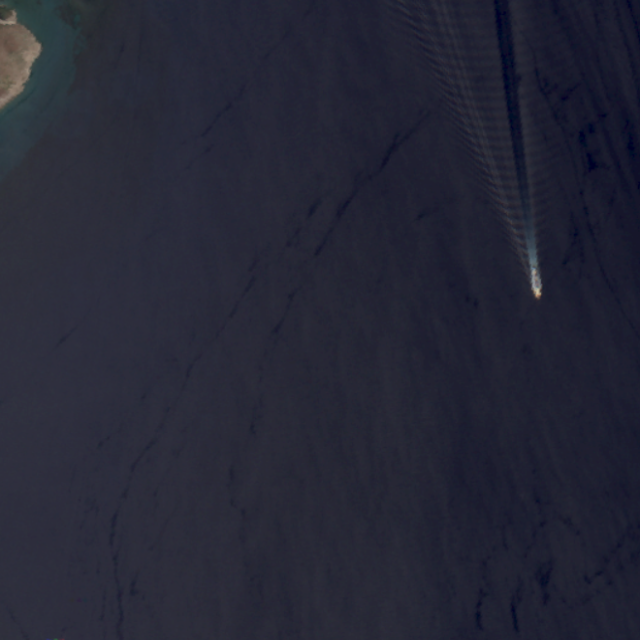wake: (433, 40, 615, 318)
